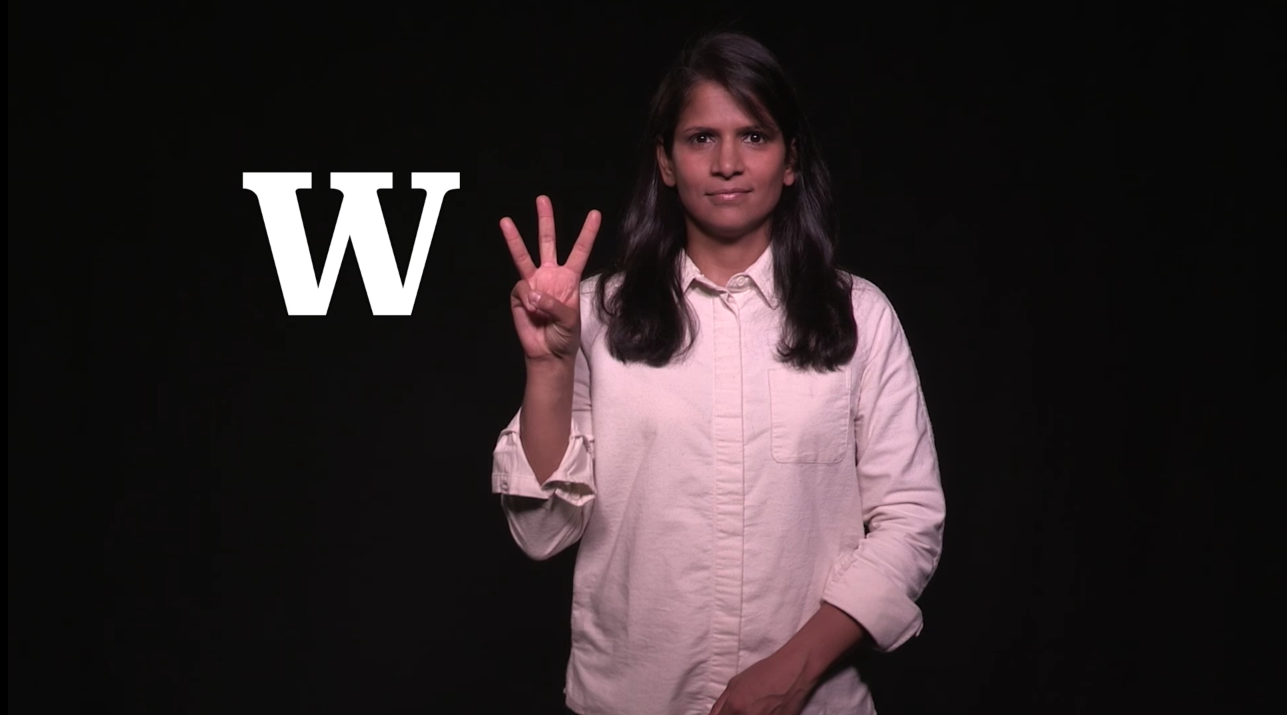w: (469, 177, 625, 382)
